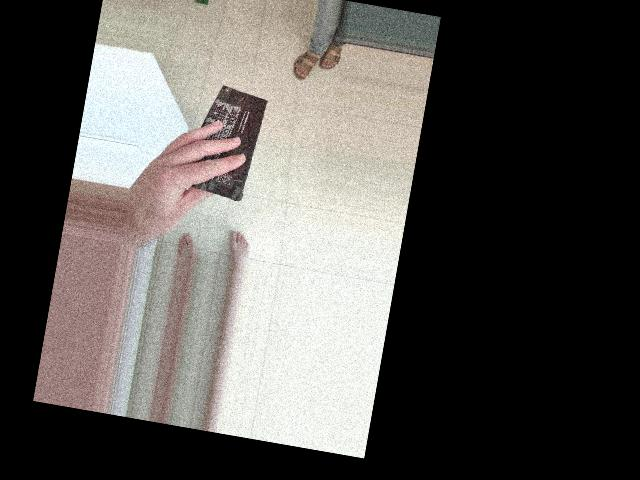chocolate: (210, 70, 338, 171)
